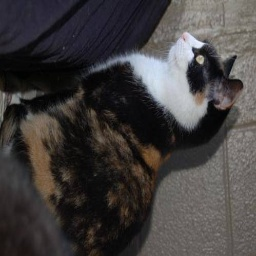cat: (23, 29, 242, 255)
